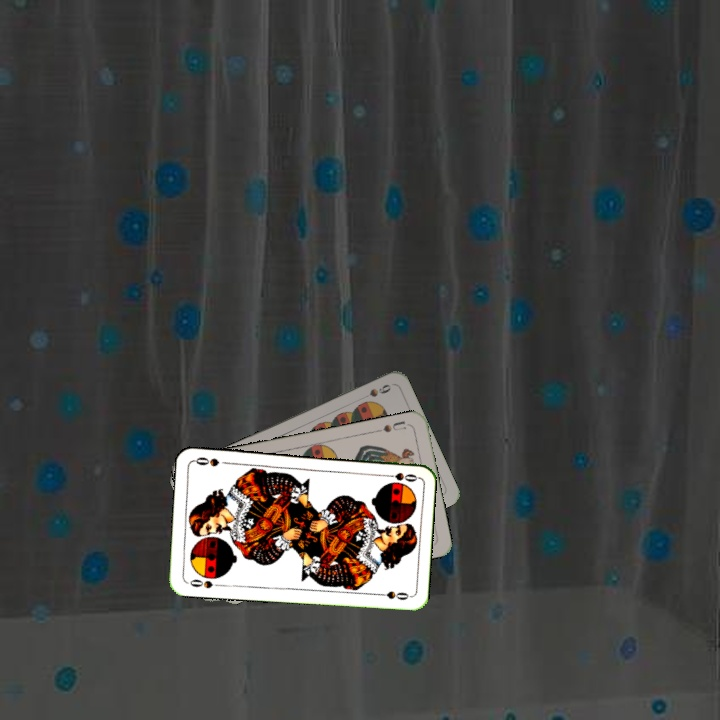S9: (358, 380, 394, 401)
SO: (379, 469, 420, 484), (183, 575, 215, 591)
SU: (371, 417, 412, 435)
